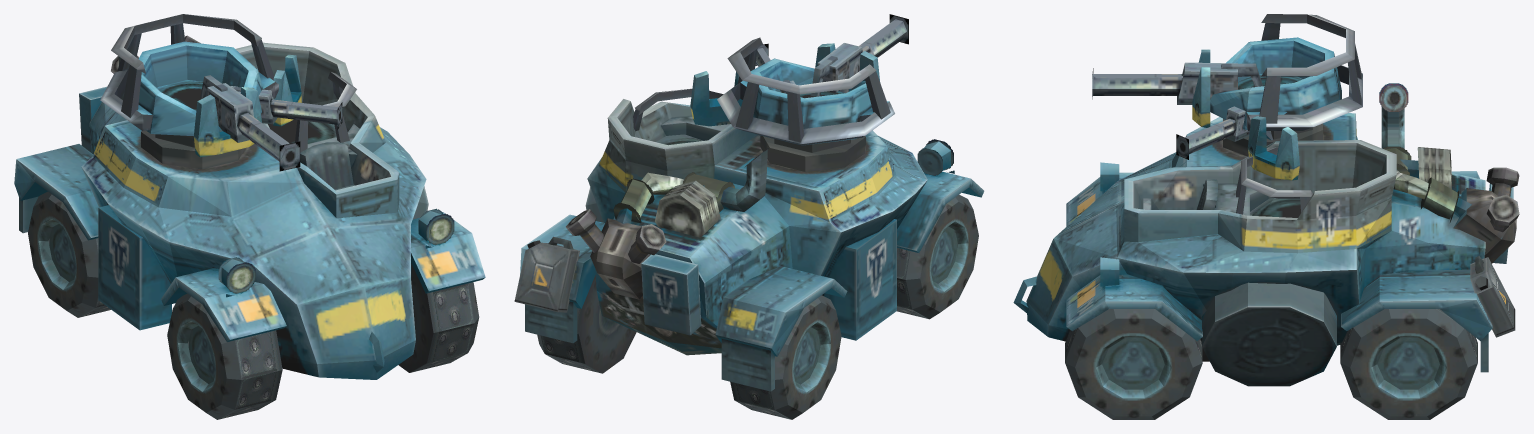
Rendered from VXLTRAH.obj.
The picture shows the model from 3 angles, left to right: view 1: azimuth 30°, elevation 25°; view 2: azimuth 150°, elevation 25°; view 3: azimuth 270°, elevation 25°; orthographic projection.
Parts seen in each view (by area): view 1: Node 0, Node 12, Node 8, Node 9, Node 6, Node 13, Node 18, Node 17; view 2: Node 0, Node 12, Node 9, Node 8, Node 7, Node 2, Node 13, Node 17; view 3: Node 0, Node 12, Node 7, Node 6, Node 13, Node 17, Node 2, Node 18.
Boxes of the visible parts, box(x1,y1,x2,y2) form: Node 0: box(14, 35, 485, 379); Node 12: box(100, 14, 278, 157); Node 8: box(167, 293, 282, 419); Node 9: box(28, 191, 110, 317); Node 6: box(398, 263, 479, 372); Node 13: box(200, 75, 300, 171); Node 18: box(230, 86, 342, 129); Node 17: box(273, 54, 301, 126); Node 0: box(520, 87, 984, 391); Node 12: box(717, 37, 894, 152); Node 9: box(730, 295, 841, 419); Node 8: box(897, 194, 978, 319); Node 7: box(537, 275, 636, 373); Node 2: box(514, 236, 579, 312); Node 13: box(810, 14, 908, 96); Node 17: box(690, 71, 742, 126); Node 0: box(1013, 83, 1519, 386); Node 12: box(1192, 14, 1362, 139); Node 7: box(1340, 309, 1477, 419); Node 6: box(1065, 309, 1202, 419); Node 13: box(1092, 62, 1262, 104); Node 17: box(1247, 116, 1299, 180); Node 2: box(1470, 256, 1515, 337); Node 18: box(1176, 106, 1273, 159).
Bounding box in the file's own units: 3.4 × 3.27 × 5.07.
22 materials, 22 textured.
